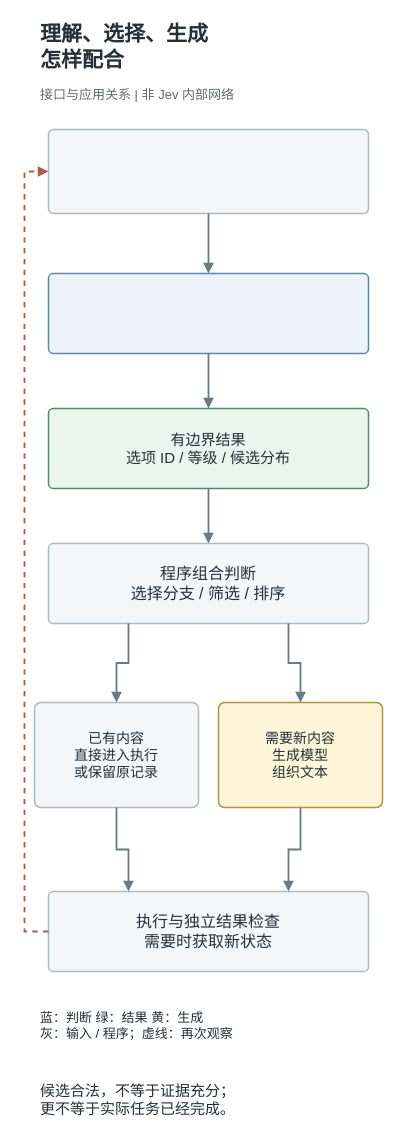
Image size: 401x1143. Some labels were removed from this diagram. The shapes that lost their labels are listed below. From the top down, each one's box as (x1, y1, x2, y2) in pixels, then its label:
(47, 128, 369, 214): 当前状态 + 本次问题 目标 / 观察 / 规则 / 动态候选
(47, 272, 369, 354): Jev：多个问题共享状态 分别返回判断
